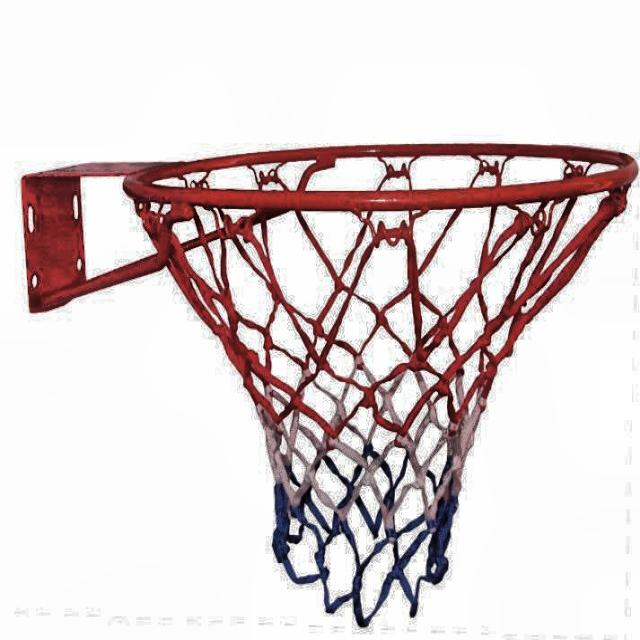rim: (125, 145, 640, 610)
